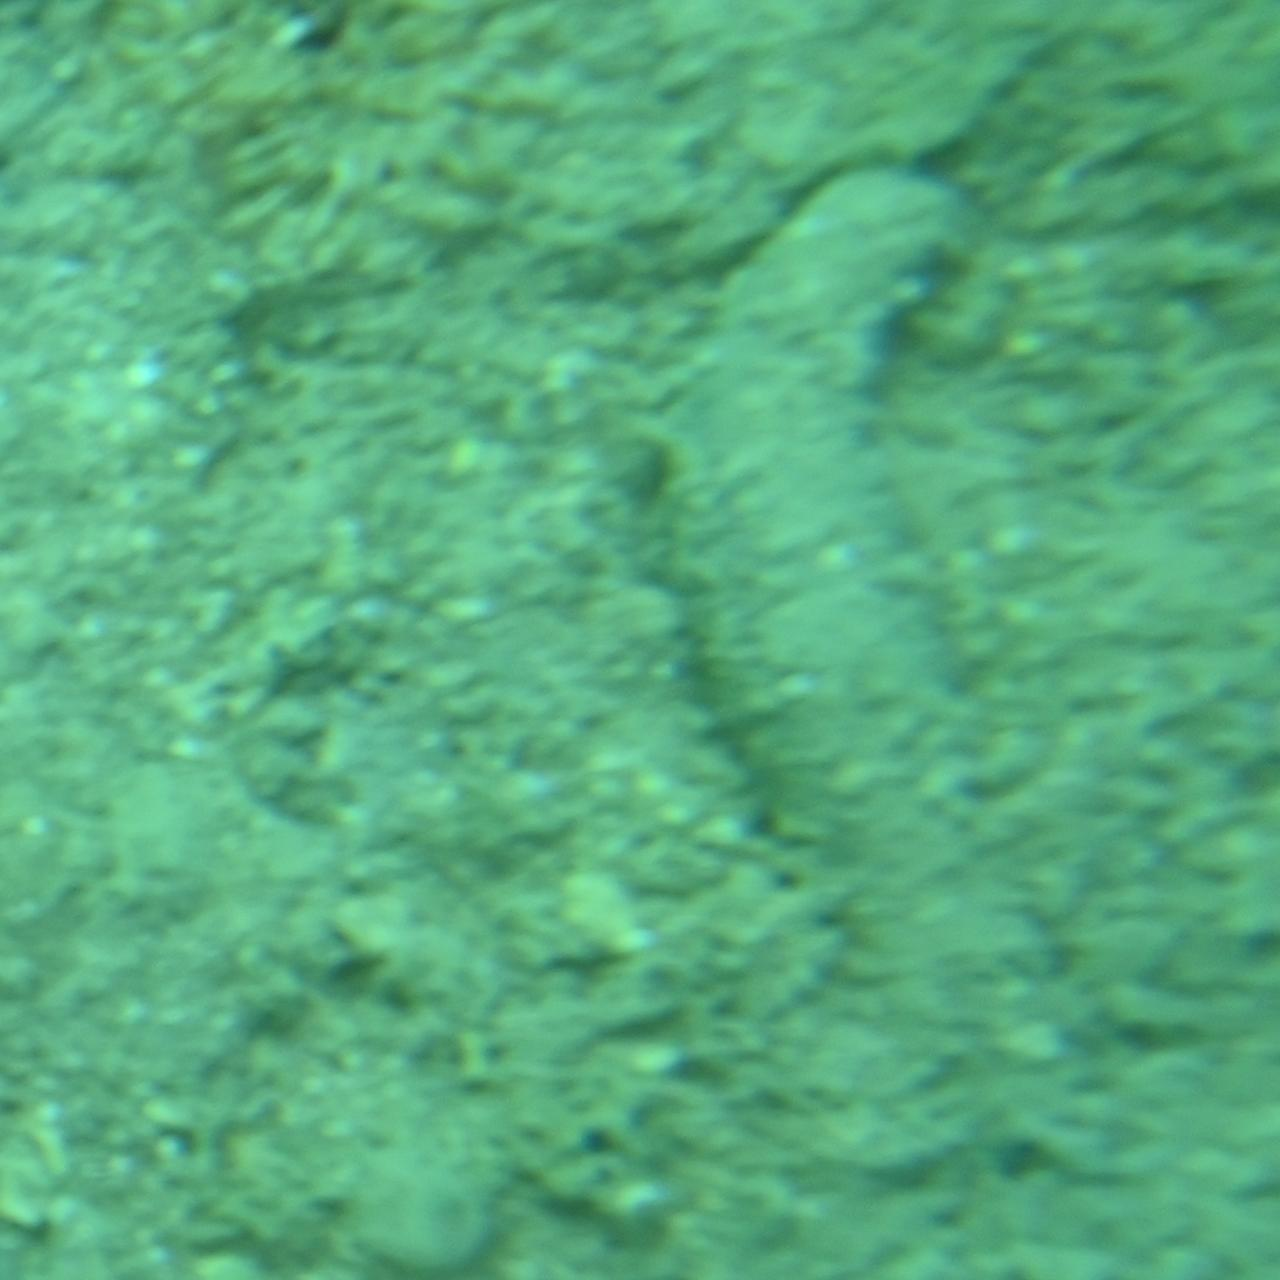Holothuria tubulosa: (724, 170, 1060, 1110)
